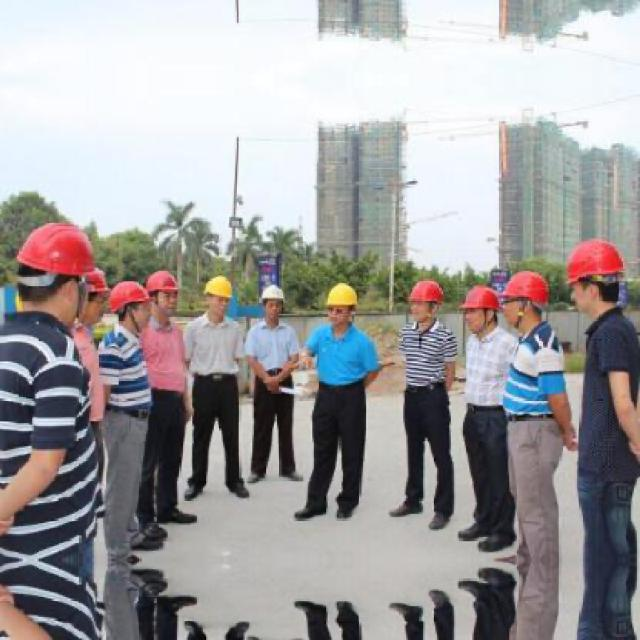con casco: (4, 196, 116, 318), (562, 216, 634, 343), (454, 272, 508, 350), (512, 262, 562, 332), (140, 272, 192, 332), (187, 270, 243, 324), (113, 293, 166, 348), (329, 282, 376, 331), (414, 278, 451, 310)
